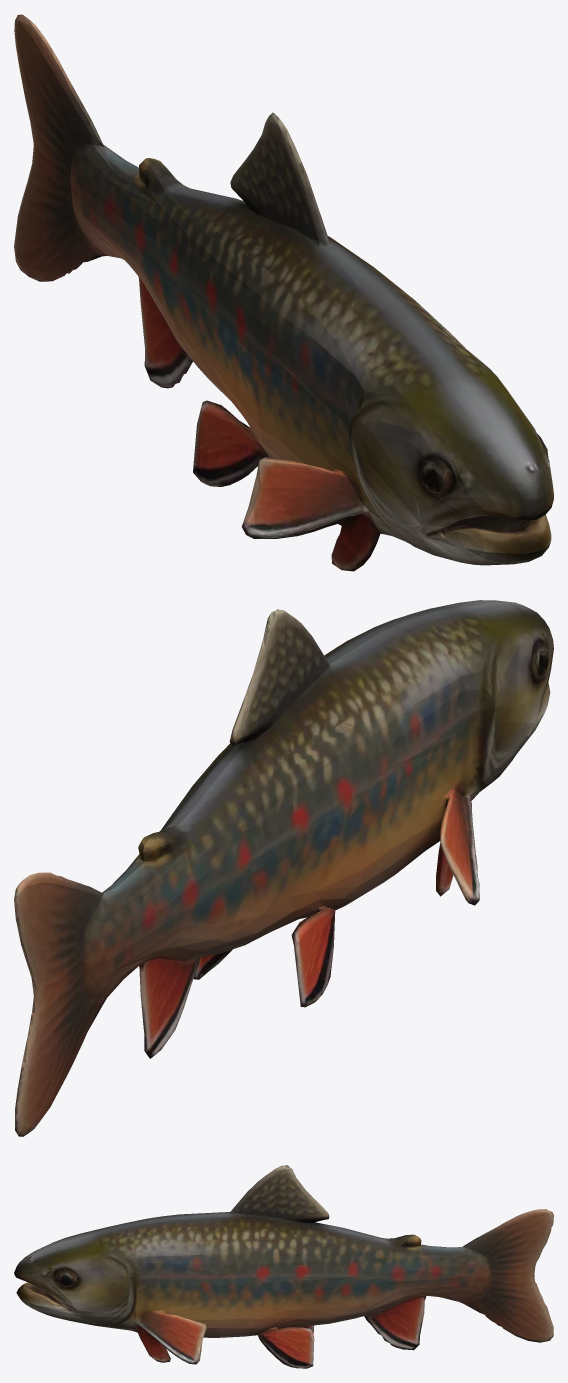
File: brook_trout.glb
3 views of the same model, one above another, from view 1: azimuth 30°, elevation 25°; view 2: azimuth 150°, elevation 25°; view 3: azimuth 270°, elevation 25° (orthographic). The views are drawn at different scales.
Parts seen in each view (by area): view 1: geometry_0; view 2: geometry_0; view 3: geometry_0.
Boxes of the visible parts, <box> form: geometry_0: <box>14,14,553,571</box>; geometry_0: <box>14,600,553,1136</box>; geometry_0: <box>14,1165,553,1368</box>.
Size of the model in its own units: 0.2545 by 0.3835 by 0.9888.
1 material, 1 textured.
